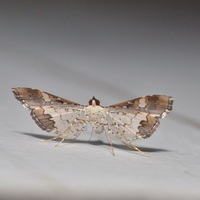insect: (12, 87, 172, 154)
